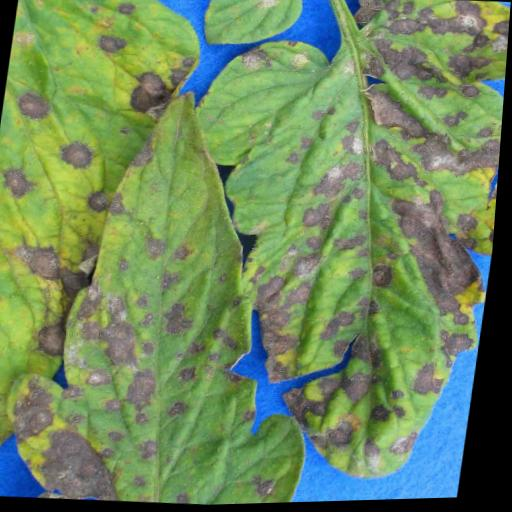Septoria: (156, 0, 512, 494), (0, 66, 371, 511), (0, 0, 213, 505)
